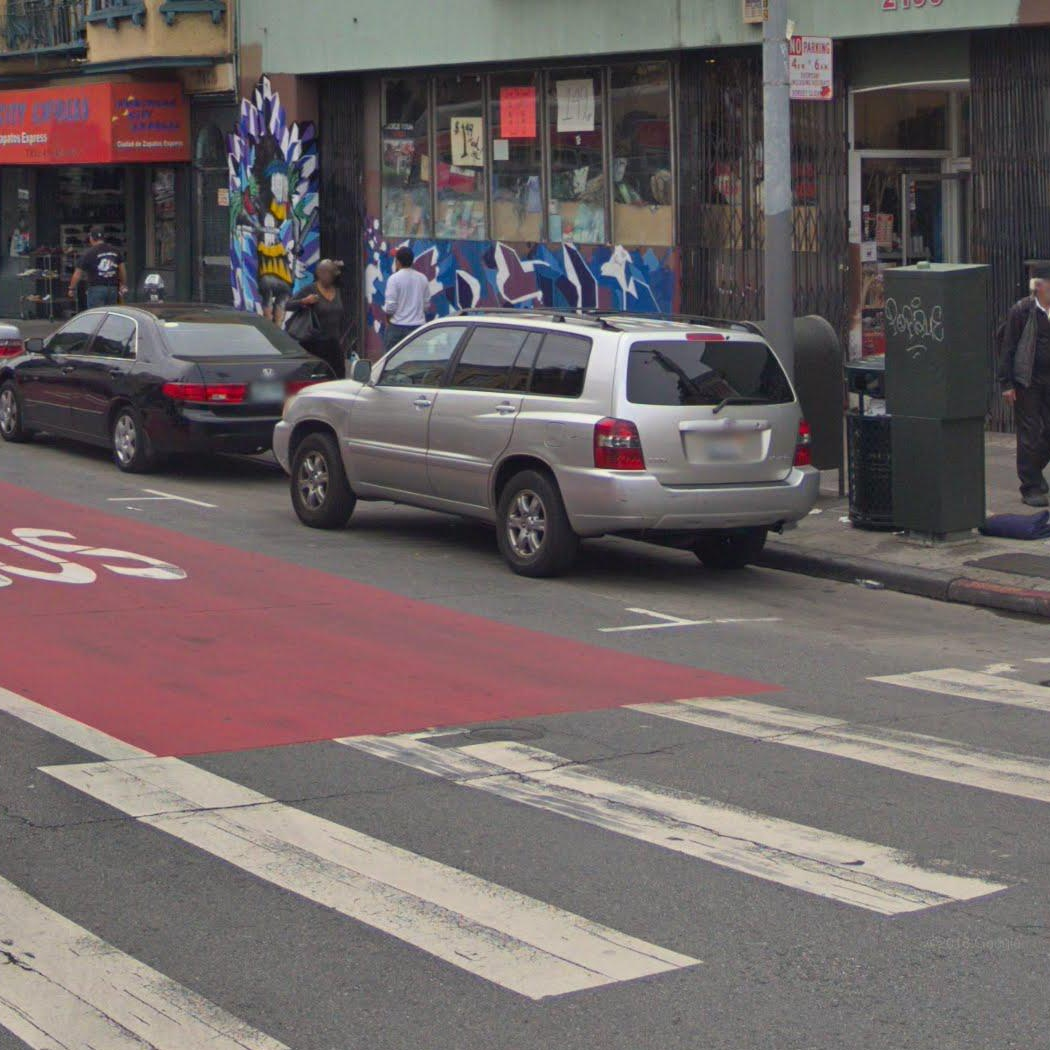No Parking: (787, 33, 834, 101)
